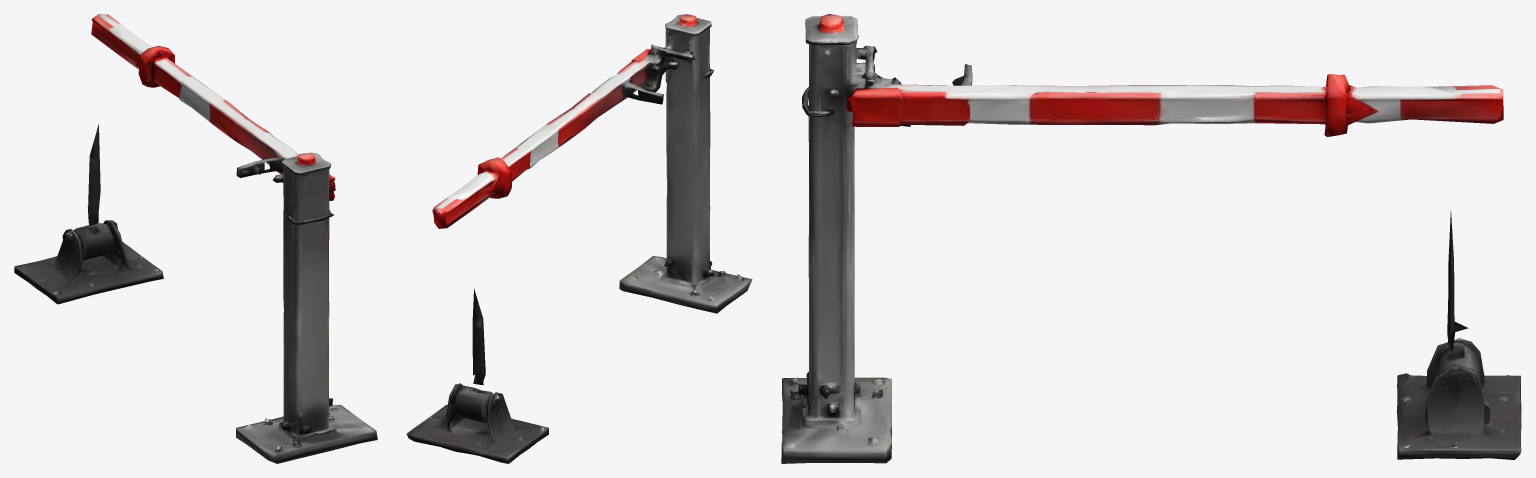
The model's file is qr_barrier.glb.
3 views of the same model, side by side, from view 1: azimuth 30°, elevation 25°; view 2: azimuth 150°, elevation 25°; view 3: azimuth 270°, elevation 25° (orthographic). The views are drawn at different scales.
Parts seen in each view (by area): view 1: tripo_node_1ce5f625-eeb0-4427-a026-b036009c826b; view 2: tripo_node_1ce5f625-eeb0-4427-a026-b036009c826b; view 3: tripo_node_1ce5f625-eeb0-4427-a026-b036009c826b.
Boxes of the visible parts, left/top/right/bottom form: tripo_node_1ce5f625-eeb0-4427-a026-b036009c826b: left=14, top=14, right=377, bottom=463; tripo_node_1ce5f625-eeb0-4427-a026-b036009c826b: left=406, top=14, right=752, bottom=463; tripo_node_1ce5f625-eeb0-4427-a026-b036009c826b: left=781, top=14, right=1521, bottom=463.
Bounding box in the file's own units: 0.2398 × 0.6088 × 1.
Materials: 1 (1 with a texture image).
